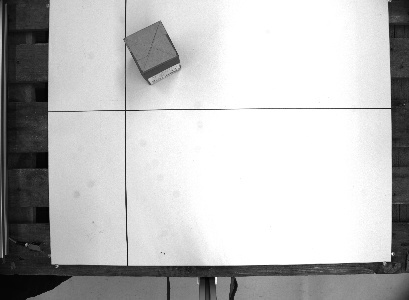b4: (120, 18, 183, 85)
